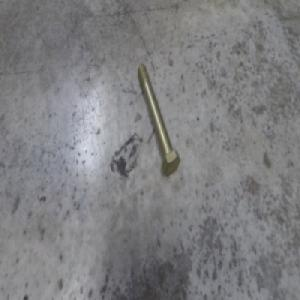Bolt: (139, 59, 181, 177)
